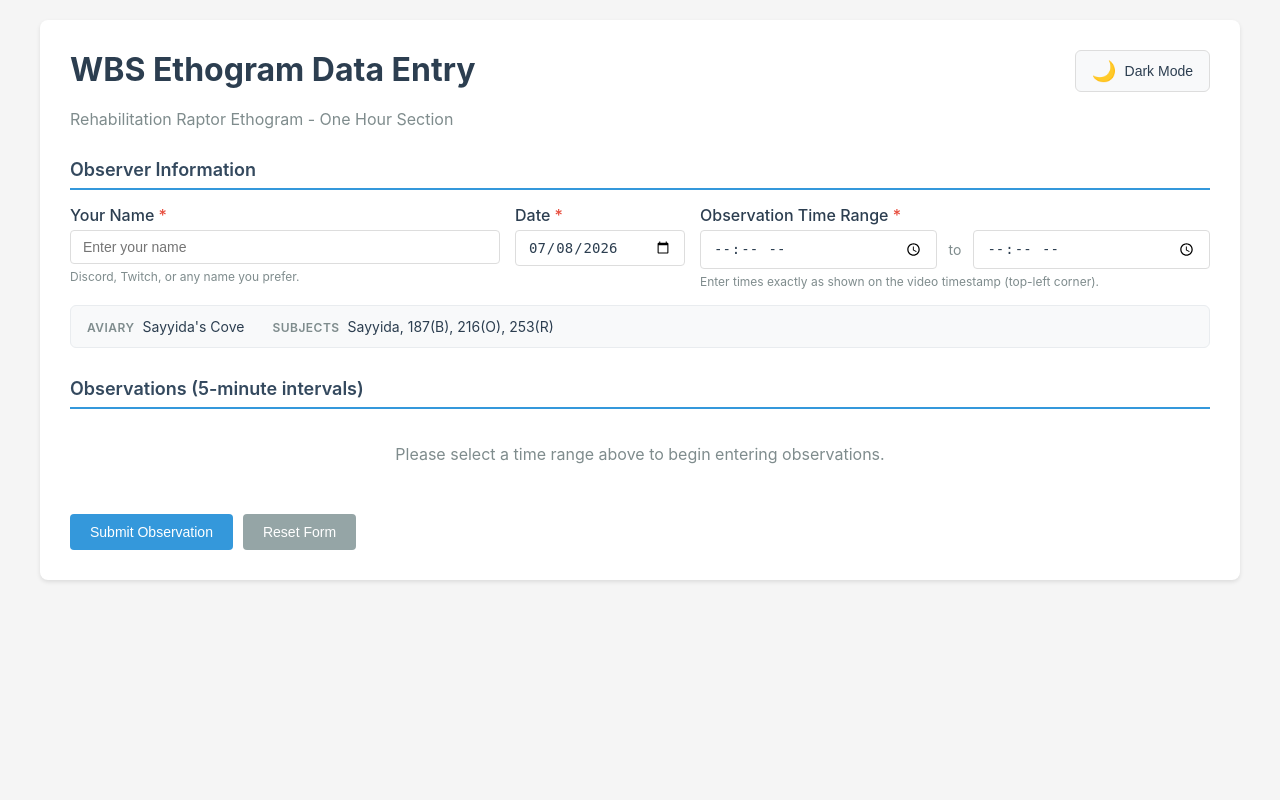
Test: Copy to Next with Validation Integration › prevents copy when object is required but not selected
Step 1. Type "10:00" into the 1st time field → (818, 249), box [700,230,937,269]
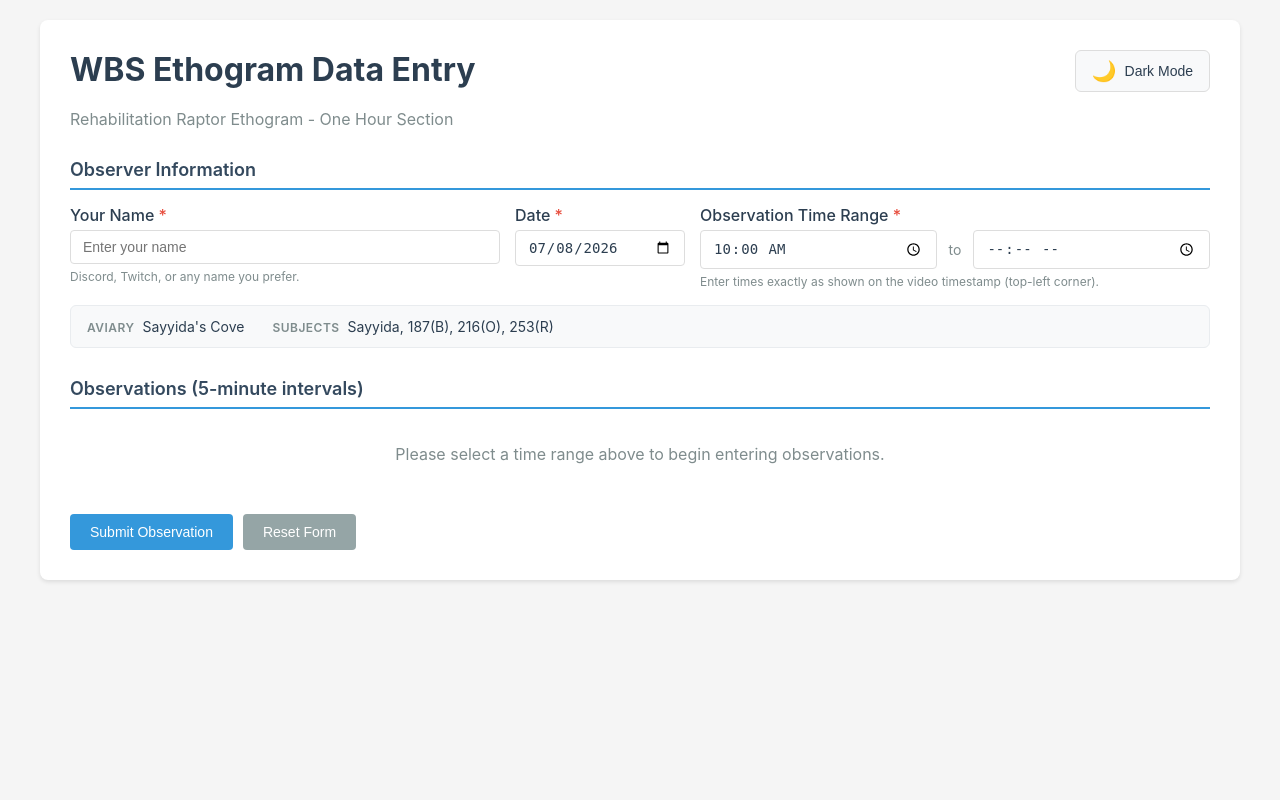
Step 2. Type "10:10" into the 2nd time field → (1092, 249), box [973,230,1210,269]
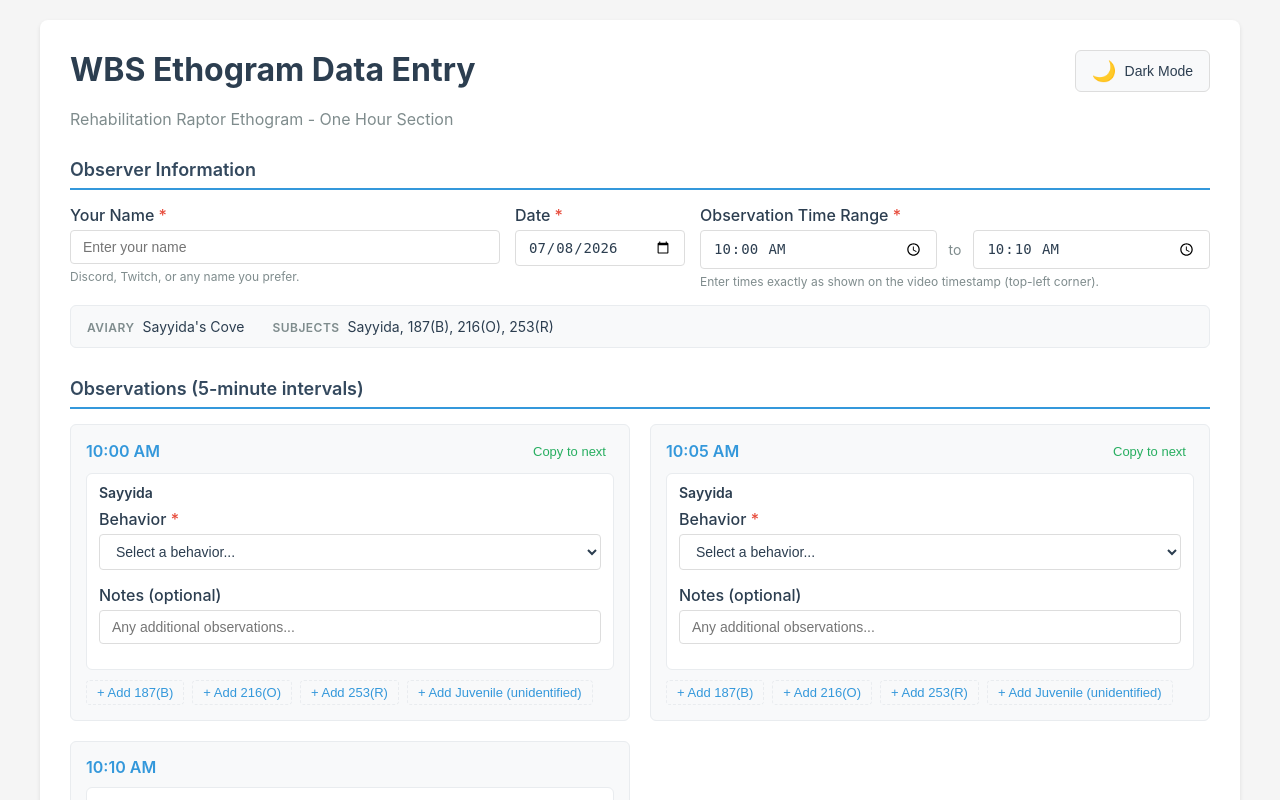
Result: the text "10:00 AM" is shown at [86,441,160,461]
Step 3. Select "Interacting with Inanimate Object" in the dropdown below "10:00 AM" → (350, 552), box [99,534,601,570]
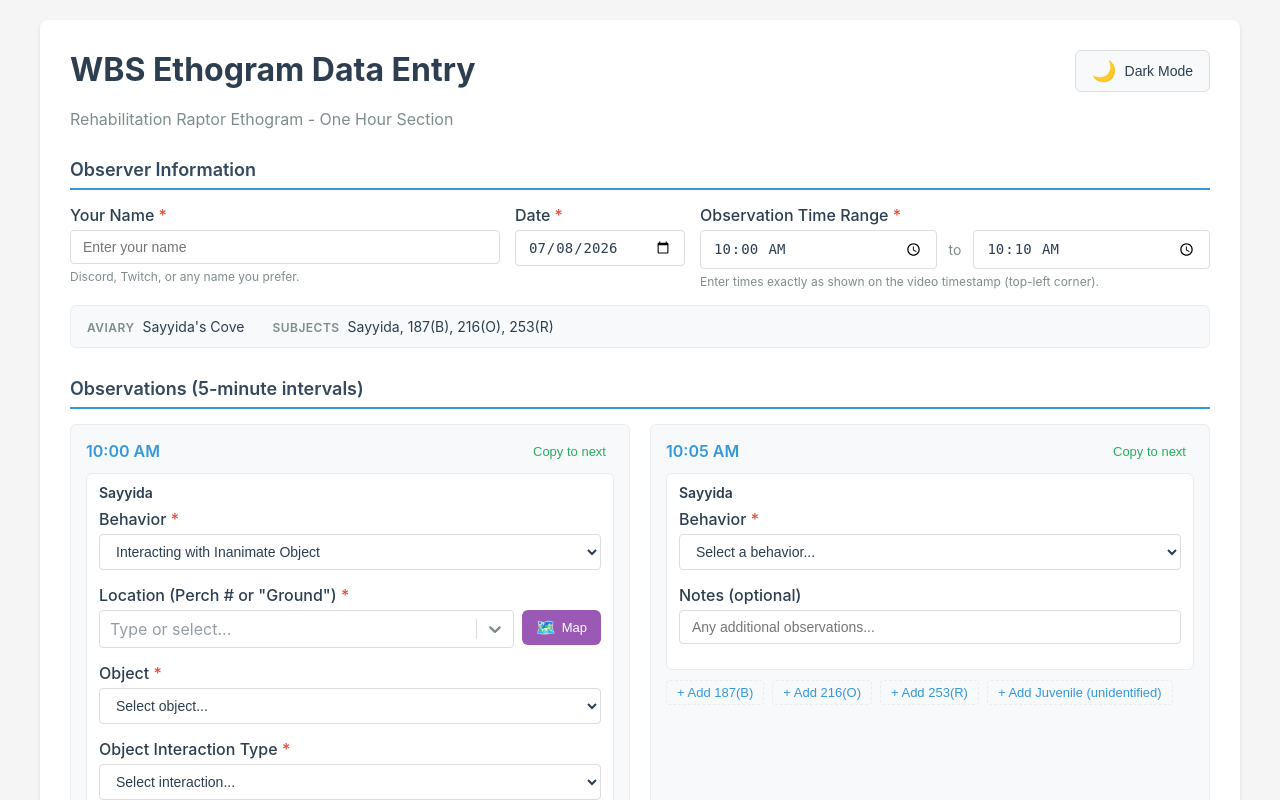
Step 4. Click the button "Copy to next" in the row of "10:00 AM" → (570, 451), box [525,440,614,463]
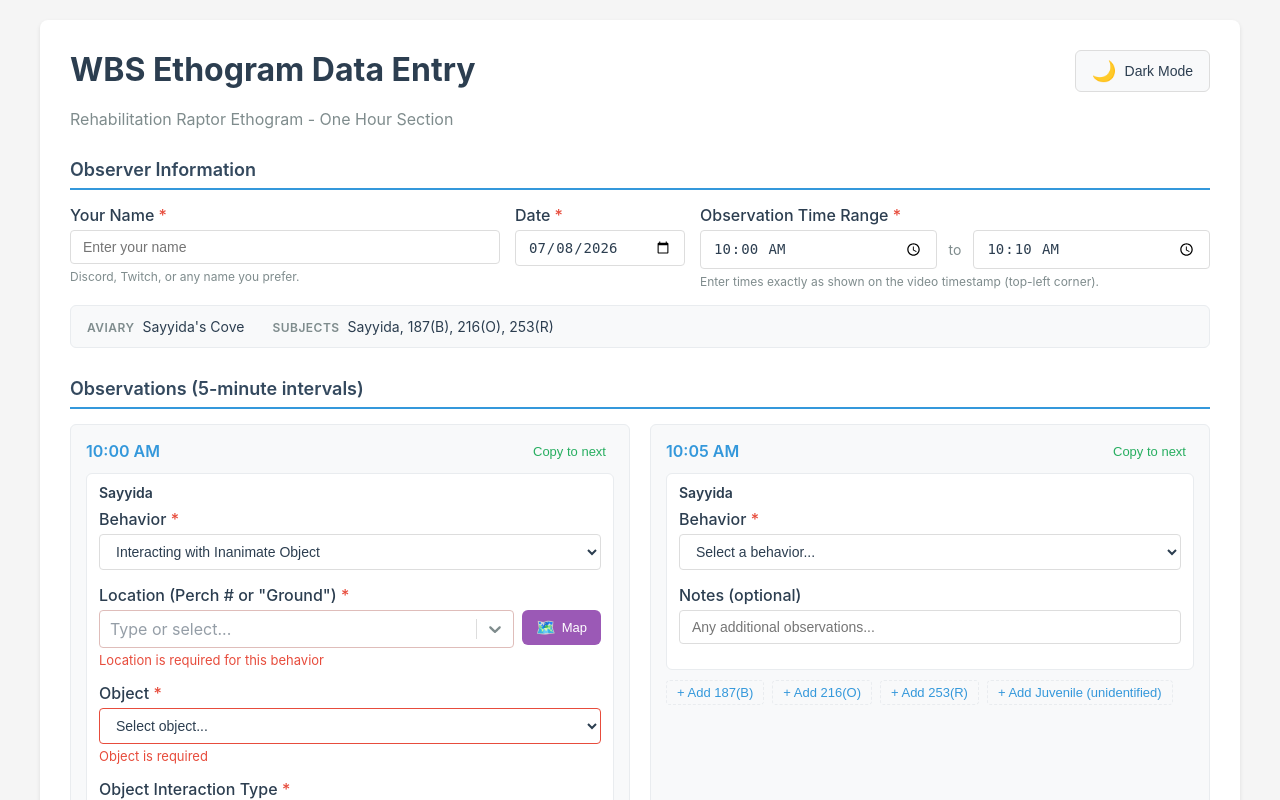
Result: the dropdown below "10:05 AM" shows "Select a behavior..." at [679,534,1181,570]
Result: the text "Object is required" is shown at [99,748,208,764]
